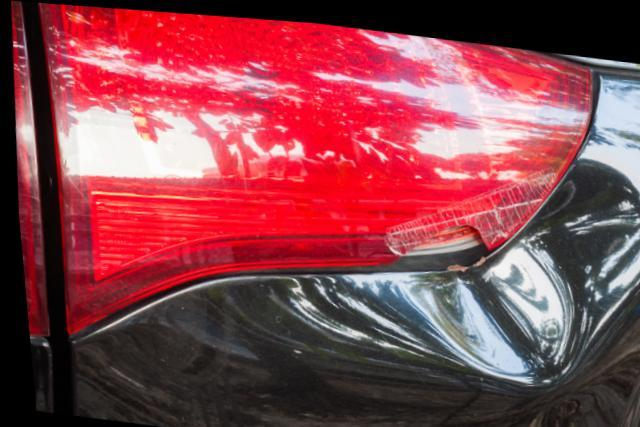dent: (391, 144, 640, 387)
lamp broken: (37, 2, 595, 337)
